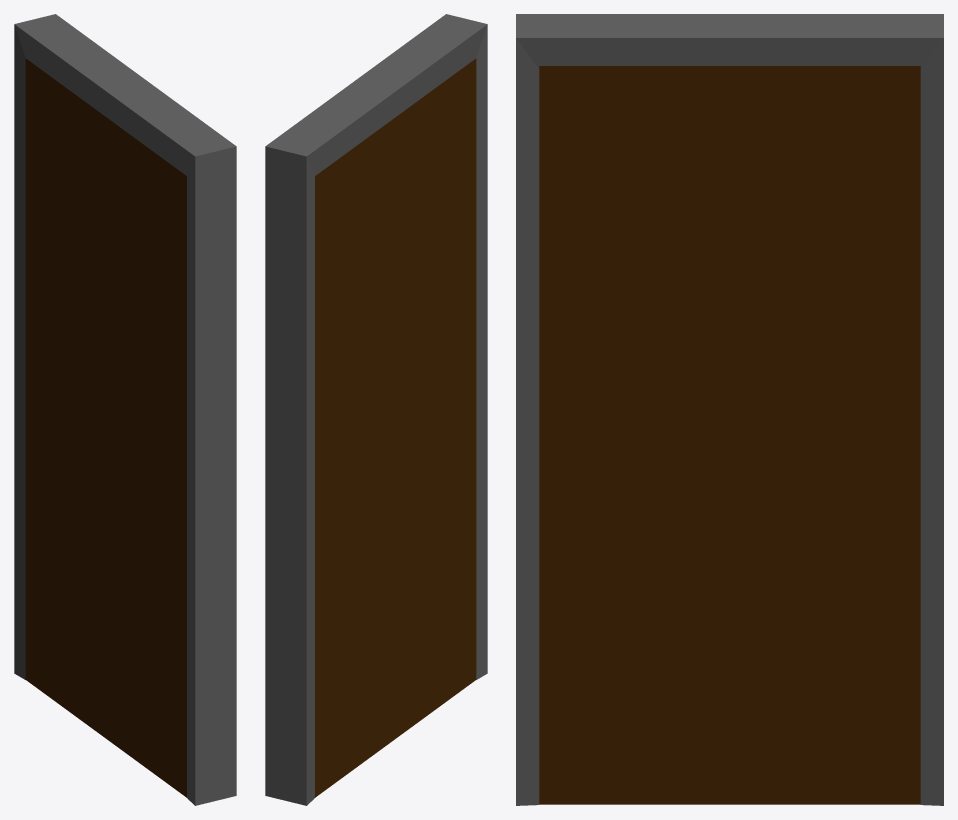
File: door.fbx
The picture shows the model from 3 angles, left to right: view 1: azimuth 30°, elevation 25°; view 2: azimuth 150°, elevation 25°; view 3: azimuth 270°, elevation 25°; orthographic projection. The views are drawn at different scales.
Visible parts, largest first — view 1: door, henge'; view 2: door, henge'; view 3: door, henge'.
Part boxes in pixels (x1,y1,x2,y2): door: (25, 58, 187, 797); henge': (14, 14, 236, 805); door: (314, 58, 476, 797); henge': (265, 14, 487, 805); door: (539, 66, 920, 804); henge': (516, 14, 943, 805).
Size of the model in its own units: 13.82 by 207 by 104.
